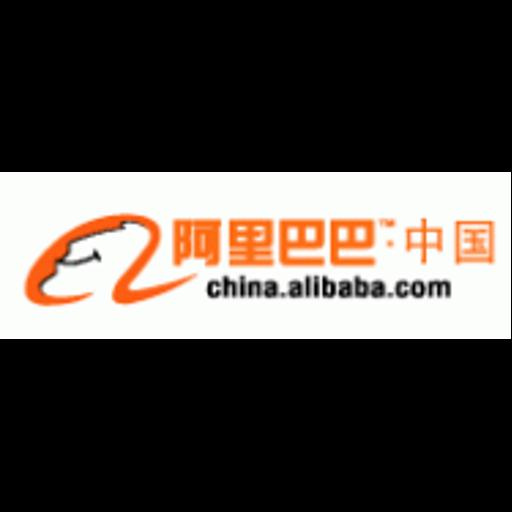Alibaba: (0, 172, 511, 339)
